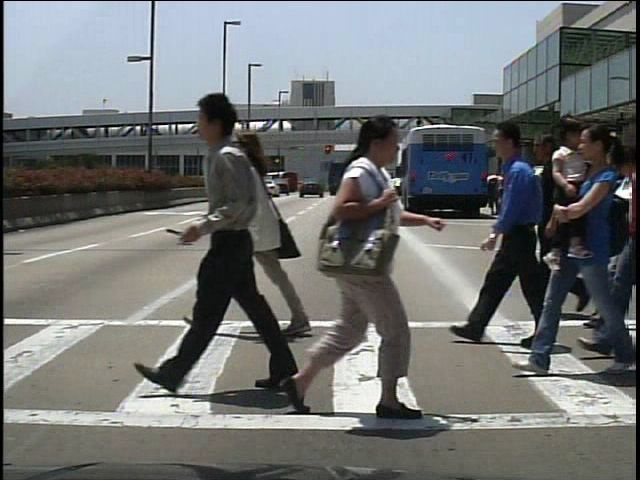person: (159, 81, 329, 415), (288, 113, 420, 423), (196, 118, 327, 343), (467, 115, 562, 347), (515, 130, 588, 322), (613, 144, 640, 350), (582, 168, 602, 218), (487, 162, 505, 214)
